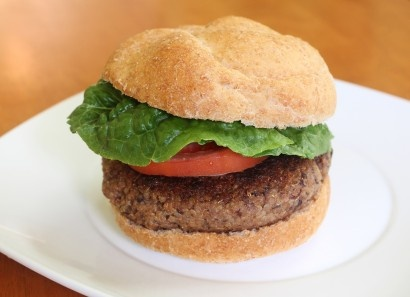background: (42, 6, 215, 122)
